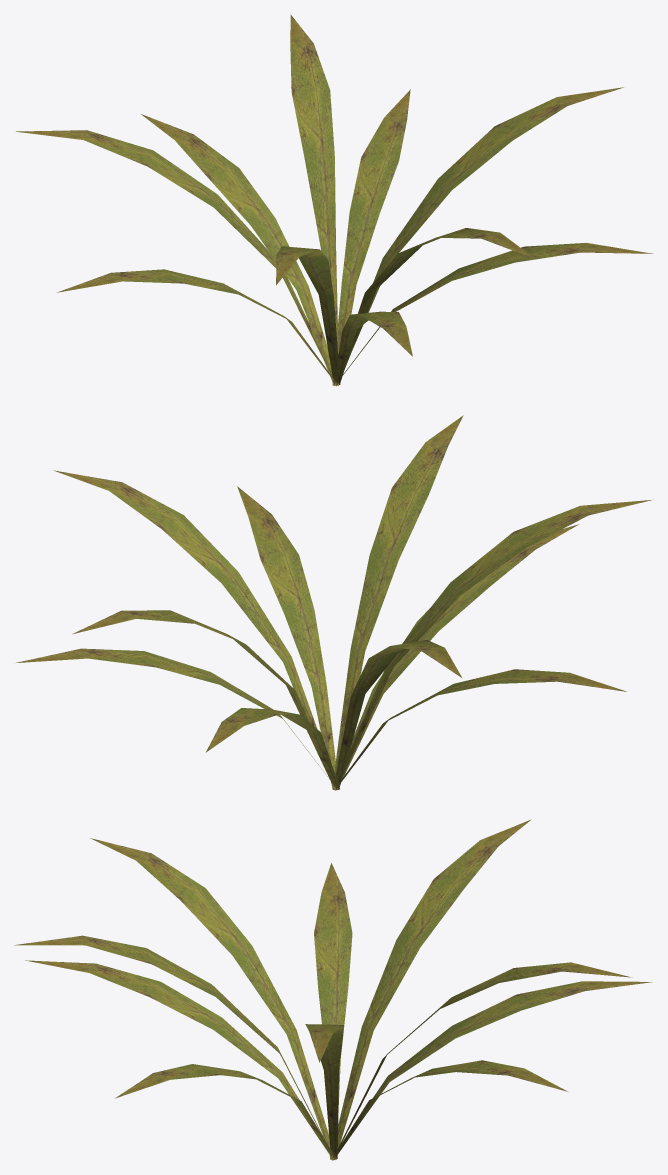
The model's file is plant_015.dae.
The picture shows the model from 3 angles, top to bottom: view 1: azimuth 30°, elevation 25°; view 2: azimuth 150°, elevation 25°; view 3: azimuth 270°, elevation 25°; orthographic projection. The views are drawn at different scales.
Visible parts, largest first — view 1: Plant_015; view 2: Plant_015; view 3: Plant_015.
Boxes of the visible parts, bbox=[...] form: Plant_015: bbox=[16, 14, 653, 386]; Plant_015: bbox=[14, 415, 653, 790]; Plant_015: bbox=[14, 819, 652, 1160].
Size of the model in its own units: 2.77 by 1.1 by 2.75.
